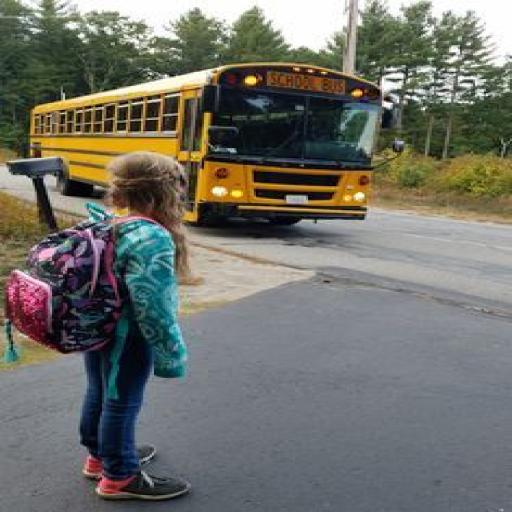bicycle: (31, 64, 381, 224)
bus_stop: (81, 153, 188, 499)
door: (7, 218, 149, 354)
ramp: (142, 211, 511, 511), (191, 209, 511, 311)
